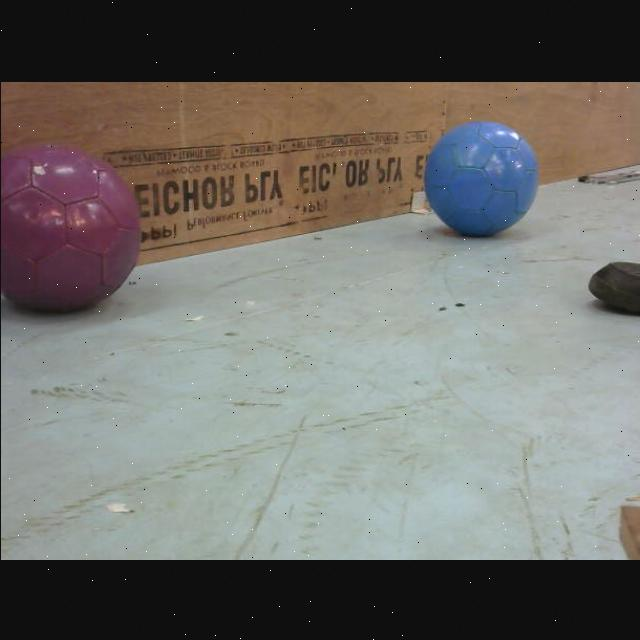B: (420, 119, 538, 238)
P: (0, 140, 144, 310)
